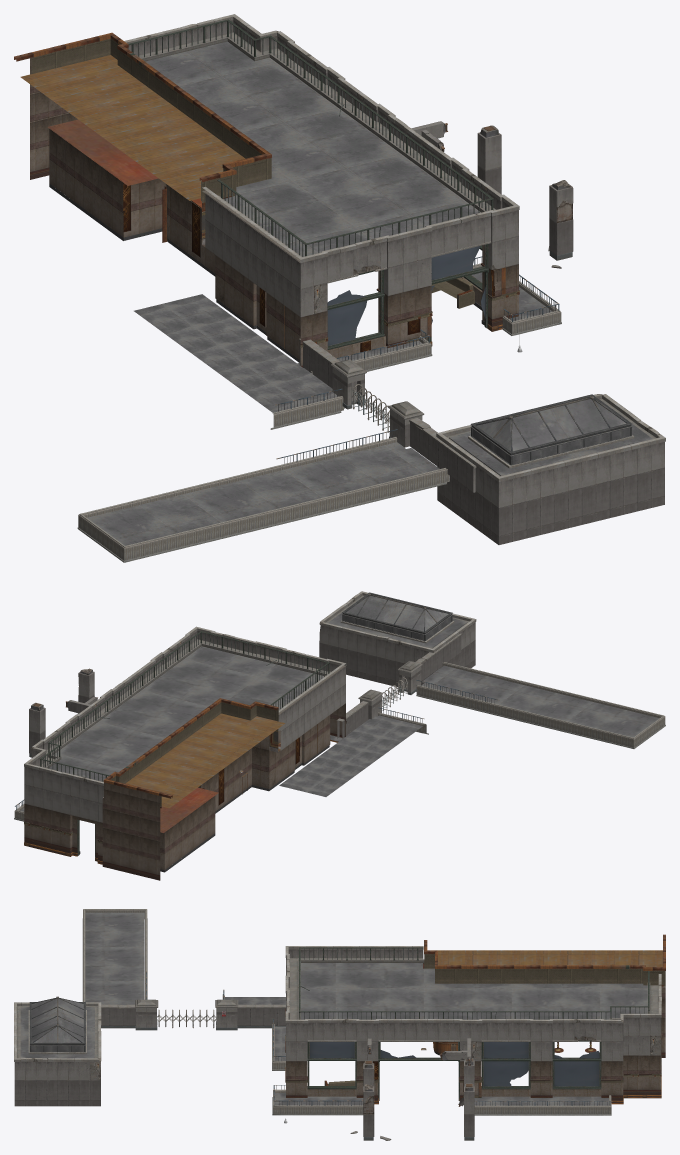
File: House_01.fbx
3 views of the same model, one above another, from view 1: azimuth 30°, elevation 25°; view 2: azimuth 150°, elevation 25°; view 3: azimuth 270°, elevation 25° (orthographic). The views are drawn at different scales.
Parts seen in each view (by area): view 1: Hotel_STR_House_01_Roof, Hotel_STR_House_01, Hotel_STR_House_01_Garden, Hotel_STR_House_01_Sub, Hotel_STR_House_01_Wall, Hotel_STR_House_01_Pillar, Hotel_STR_House_01_Window; view 2: Hotel_STR_House_01_Roof, Hotel_STR_House_01, Hotel_STR_House_01_Garden, Hotel_STR_House_01_Sub, Hotel_STR_House_01_Wall, Hotel_STR_House_01_Pillar; view 3: Hotel_STR_House_01_Roof, Hotel_STR_House_01, Hotel_STR_House_01_Garden, Hotel_STR_House_01_Sub, Hotel_STR_House_01_Wall, Hotel_STR_House_01_Window, Hotel_STR_House_01_Pillar.
Boxes of the visible parts, bbox=[...] form: Hotel_STR_House_01_Roof: bbox=[124, 14, 519, 317]; Hotel_STR_House_01: bbox=[14, 32, 519, 367]; Hotel_STR_House_01_Garden: bbox=[77, 256, 561, 562]; Hotel_STR_House_01_Sub: bbox=[436, 394, 665, 544]; Hotel_STR_House_01_Wall: bbox=[299, 338, 476, 492]; Hotel_STR_House_01_Pillar: bbox=[477, 125, 573, 268]; Hotel_STR_House_01_Window: bbox=[327, 285, 485, 345]; Hotel_STR_House_01_Roof: bbox=[24, 626, 346, 822]; Hotel_STR_House_01: bbox=[24, 698, 346, 880]; Hotel_STR_House_01_Garden: bbox=[14, 662, 665, 821]; Hotel_STR_House_01_Sub: bbox=[319, 591, 476, 691]; Hotel_STR_House_01_Wall: bbox=[336, 633, 462, 738]; Hotel_STR_House_01_Pillar: bbox=[29, 668, 94, 757]; Hotel_STR_House_01_Roof: bbox=[285, 946, 661, 1066]; Hotel_STR_House_01: bbox=[285, 934, 665, 1104]; Hotel_STR_House_01_Garden: bbox=[82, 909, 612, 1115]; Hotel_STR_House_01_Sub: bbox=[14, 996, 101, 1106]; Hotel_STR_House_01_Wall: bbox=[101, 999, 285, 1030]; Hotel_STR_House_01_Window: bbox=[483, 1061, 599, 1086]; Hotel_STR_House_01_Pillar: bbox=[350, 1058, 474, 1140].
Bounding box in the file's own units: 3867 × 874 × 4795.
5 materials, 4 textured.
